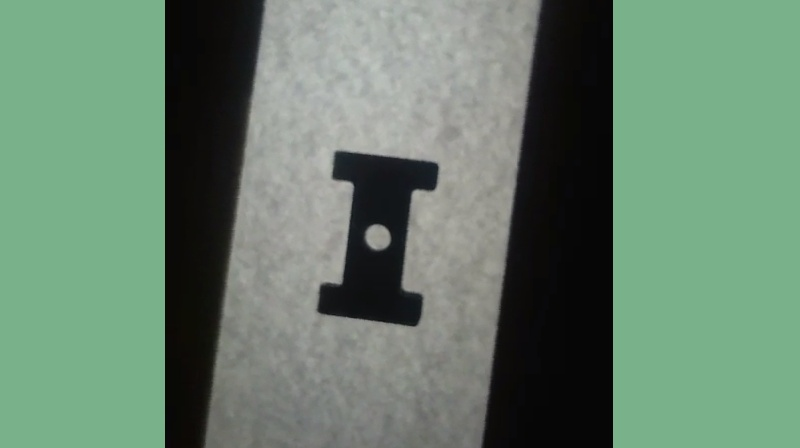O002: (314, 144, 441, 328)
